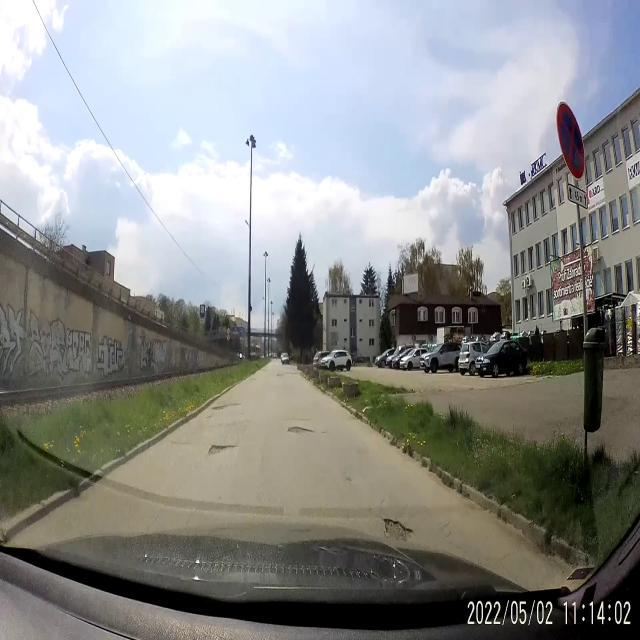Pothole: (382, 512, 420, 543), (206, 442, 242, 466), (282, 417, 314, 443), (212, 393, 242, 411)
